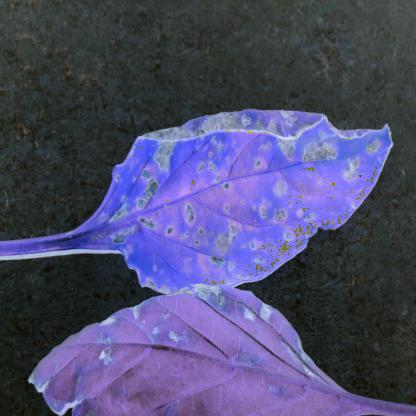Bell_pepper leaf: (58, 100, 396, 294), (26, 284, 373, 416)
